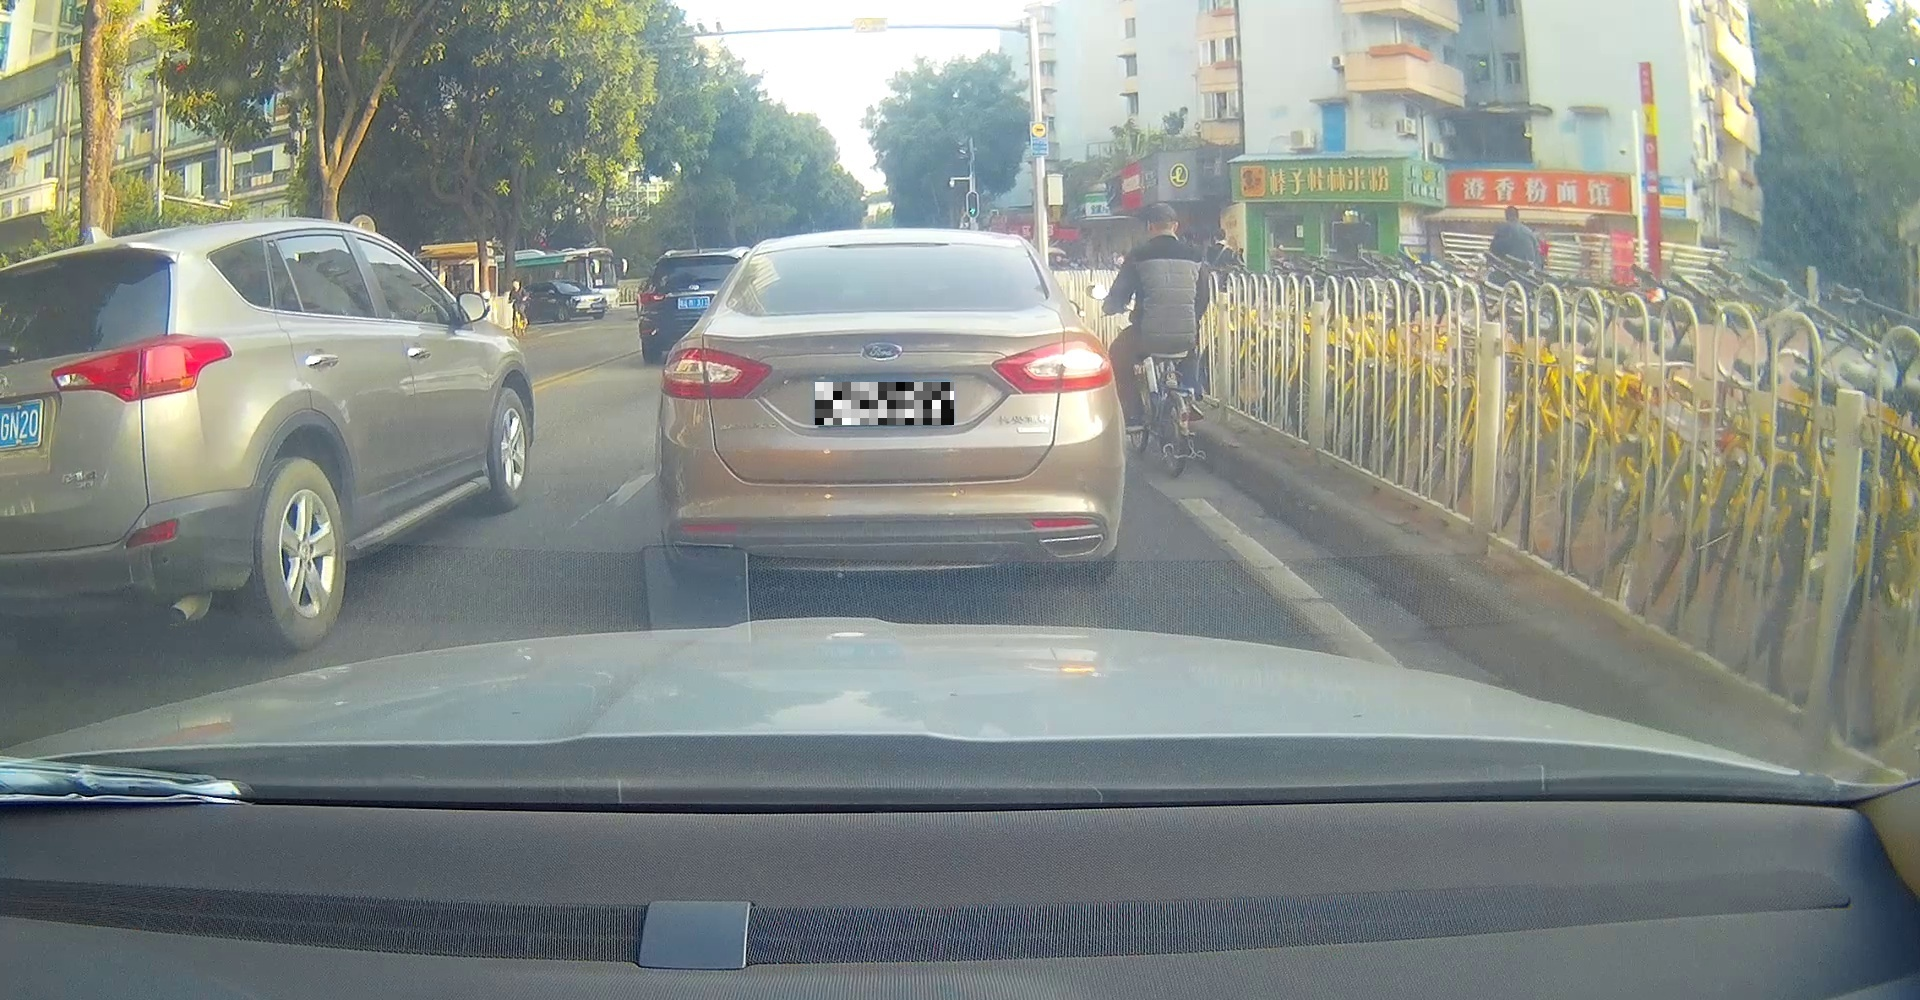L_light: (659, 345, 775, 401)
R_light: (990, 338, 1114, 393)
T_light: (839, 242, 946, 250)
day-no: (651, 228, 1128, 581)
plate_1: (815, 382, 954, 425)
